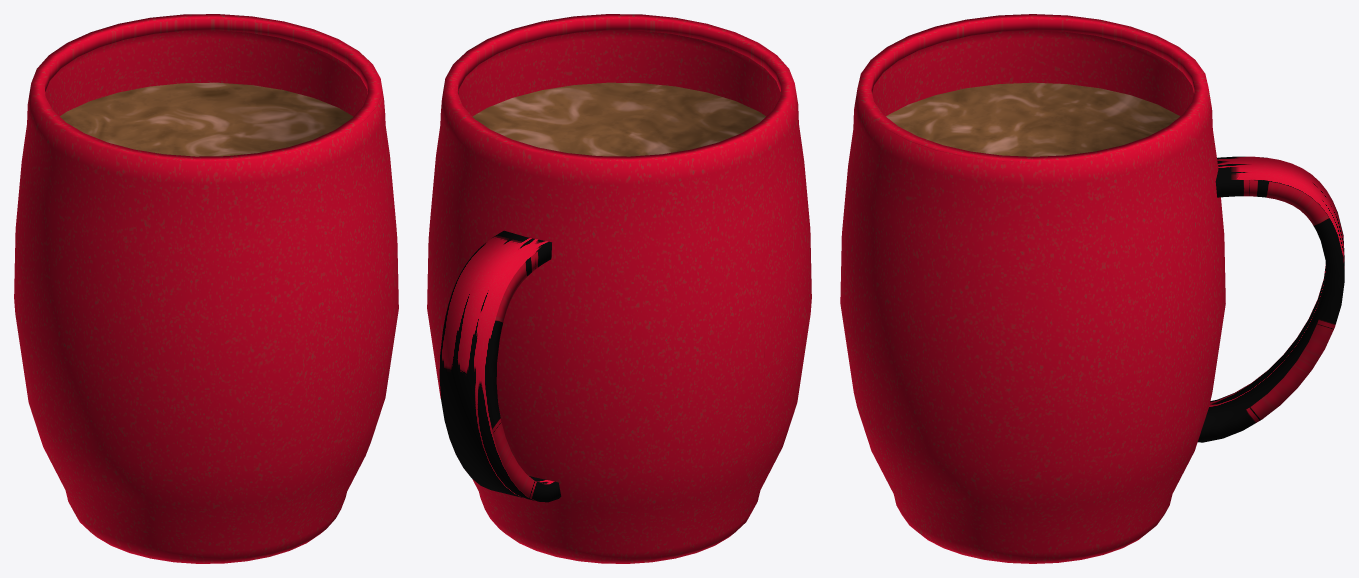
Rendered from GameJamHotChocolate.fbx.
3 views of the same model, side by side, from view 1: azimuth 30°, elevation 25°; view 2: azimuth 150°, elevation 25°; view 3: azimuth 270°, elevation 25° (orthographic).
Parts seen in each view (by area): view 1: Cylinder, Cylinder.001; view 2: Cylinder, BezierCircle, Cylinder.001; view 3: Cylinder, Cylinder.001, BezierCircle.
Part boxes in pixels (x1,y1,x2,y2): Cylinder: (14,14,398,563); Cylinder.001: (60,82,353,156); Cylinder: (427,14,811,563); BezierCircle: (439,230,561,502); Cylinder.001: (472,82,765,156); Cylinder: (840,14,1225,563); Cylinder.001: (886,82,1179,156); BezierCircle: (1198,156,1344,442).
Bounding box in the file's own units: 278 × 336 × 364.
